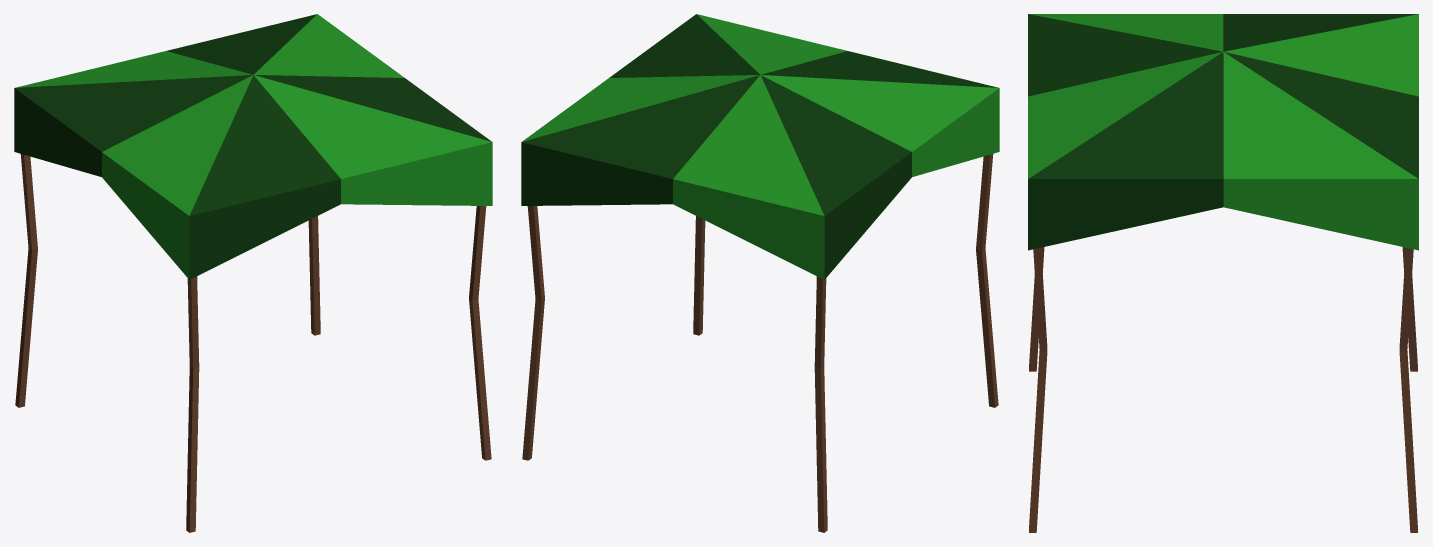
The model's file is Tent_7_Green.fbx.
The picture shows the model from 3 angles, left to right: view 1: azimuth 30°, elevation 25°; view 2: azimuth 150°, elevation 25°; view 3: azimuth 270°, elevation 25°; orthographic projection. The views are drawn at different scales.
Parts seen in each view (by area): view 1: Tent_7_Green; view 2: Tent_7_Green; view 3: Tent_7_Green.
Boxes of the visible parts, left/top/right/bottom form: Tent_7_Green: left=14, top=14, right=492, bottom=532; Tent_7_Green: left=521, top=14, right=999, bottom=532; Tent_7_Green: left=1028, top=14, right=1418, bottom=532.
Bounding box in the file's own units: 500 × 563 × 500.
